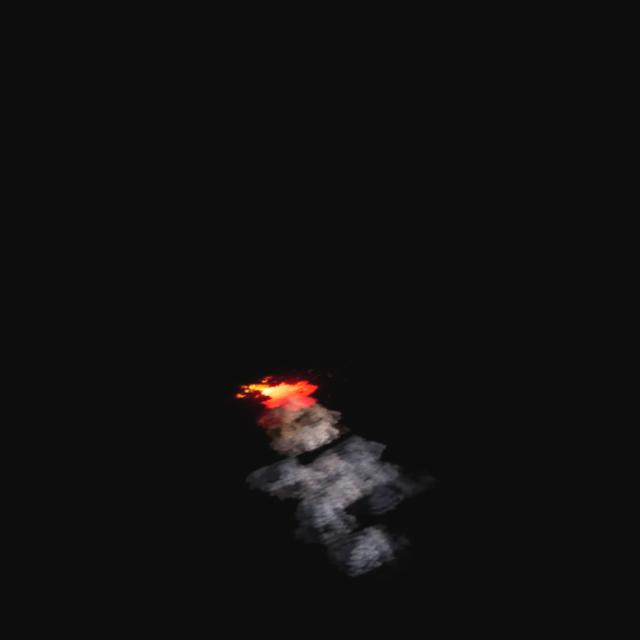fire: (226, 363, 326, 422)
smoke: (231, 388, 423, 595)
